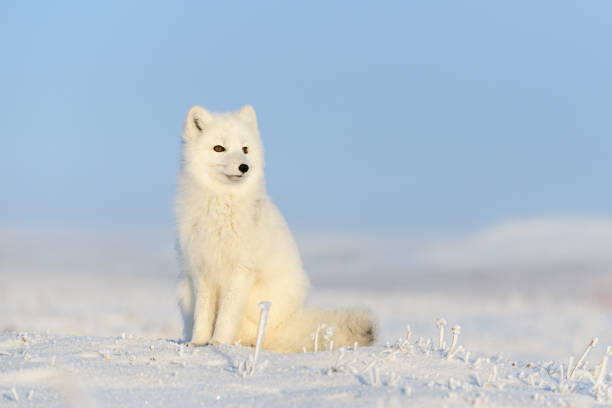arcticfox: (196, 125, 260, 195)
